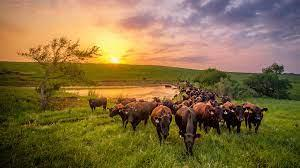cow: (176, 106, 200, 152), (150, 105, 173, 142), (194, 103, 223, 132), (242, 104, 266, 132), (127, 105, 150, 129), (110, 102, 130, 128), (226, 105, 246, 130), (89, 96, 106, 112)
